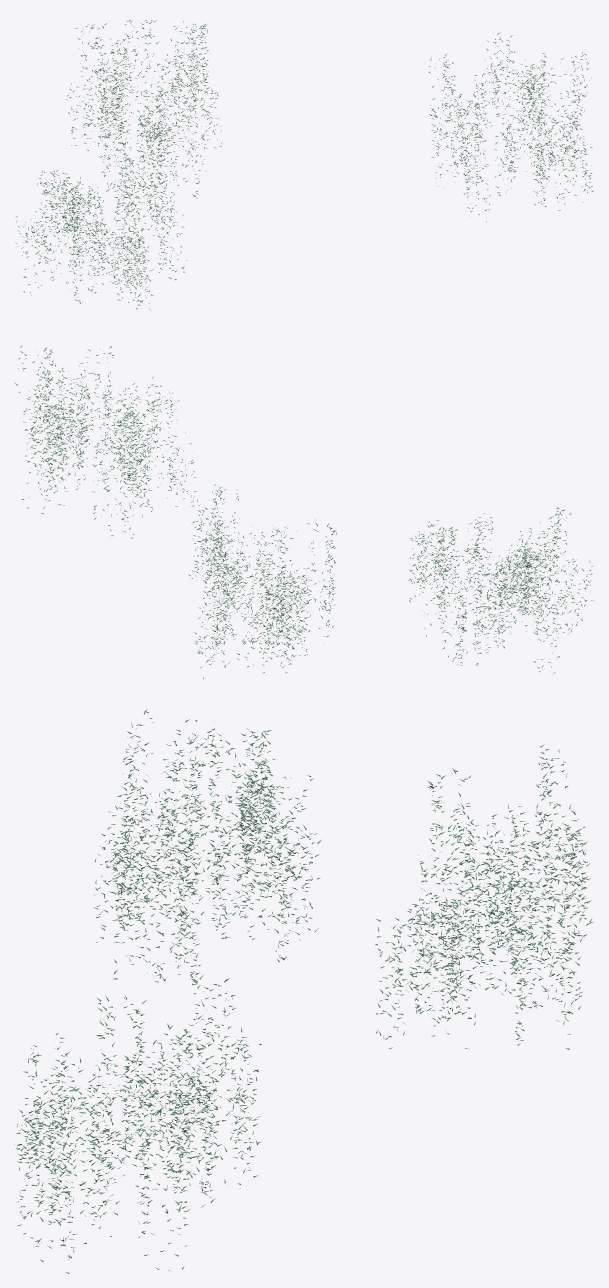
File: xiyuan-vegetation-12-medium.glb
3 views of the same model, one above another, from view 1: azimuth 30°, elevation 25°; view 2: azimuth 150°, elevation 25°; view 3: azimuth 270°, elevation 25° (orthographic). The views are drawn at different scales.
Parts seen in each view (by area): view 1: vegetation willow leaves.001; view 2: vegetation willow leaves.001; view 3: vegetation willow leaves.001.
Boxes of the visible parts, bbox=[...] form: vegetation willow leaves.001: bbox=[15, 20, 593, 309]; vegetation willow leaves.001: bbox=[15, 345, 593, 678]; vegetation willow leaves.001: bbox=[14, 709, 593, 1273].
Bounding box in the file's own units: 28.81 × 8.88 × 16.27.
